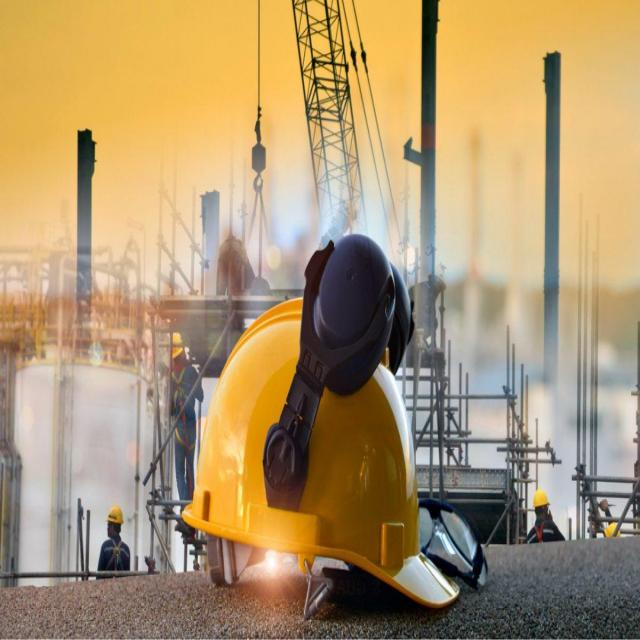Reflective-Jacket: (172, 366, 201, 445), (522, 519, 559, 542)
Safety-Helmet: (180, 285, 468, 611), (530, 483, 552, 510), (171, 328, 186, 358), (108, 502, 124, 524)
